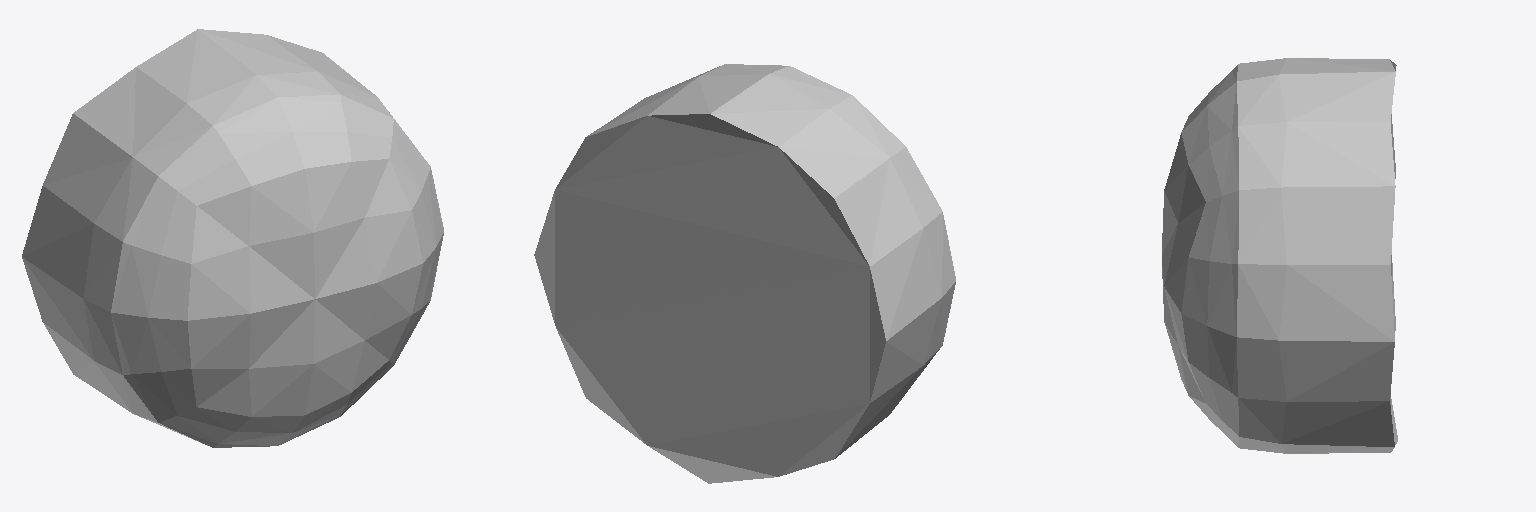
The model's file is button.obj.
The picture shows the model from 3 angles: view 1: azimuth 30°, elevation 25°; view 2: azimuth 150°, elevation 25°; view 3: azimuth 270°, elevation 25°; orthographic projection.
Parts seen in each view (by area): view 1: Cube; view 2: Cube; view 3: Cube.
Boxes of the visible parts, <box> form: Cube: <box>22,29,443,447</box>; Cube: <box>534,64,955,483</box>; Cube: <box>1162,58,1397,453</box>.
Bounding box in the file's own units: 0.0128 × 0.0128 × 0.0075.